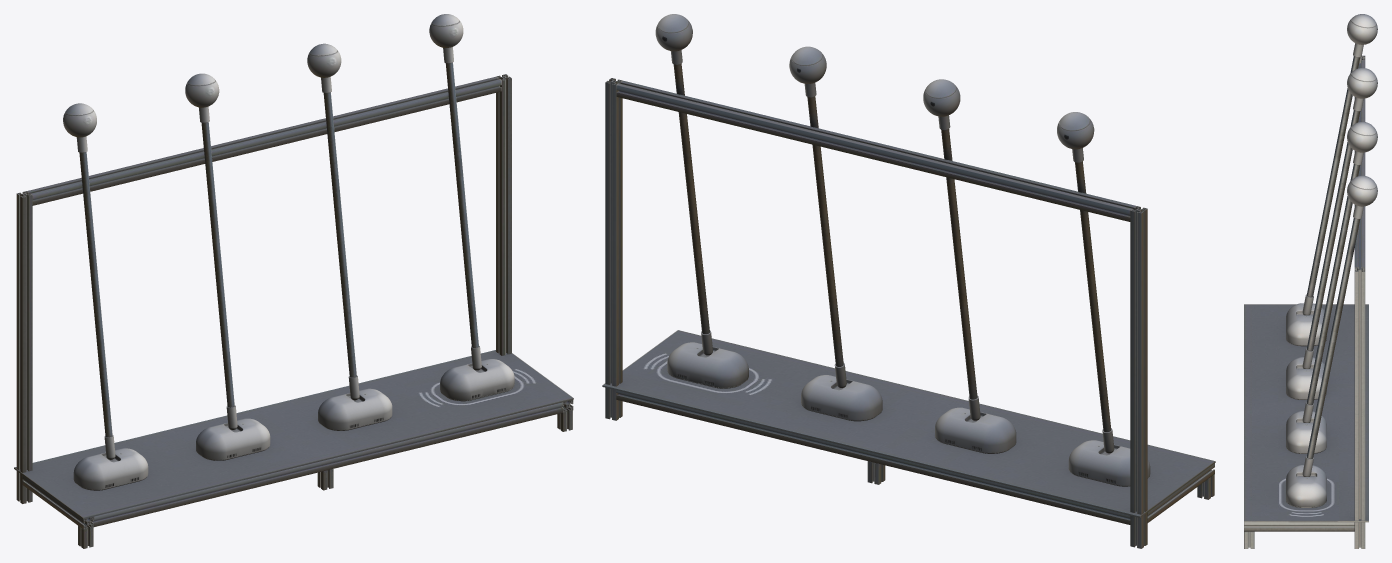
3 renders of one model, left to right at view 1: azimuth 30°, elevation 25°; view 2: azimuth 150°, elevation 25°; view 3: azimuth 270°, elevation 25°, orthographic. The views are drawn at different scales.
Parts seen in each view (by area): view 1: Plane.001; view 2: Plane.001; view 3: Plane.001.
Boxes of the visible parts, x1,y1,x2,y2 form: Plane.001: [14, 14, 573, 548]; Plane.001: [602, 14, 1215, 548]; Plane.001: [1244, 14, 1377, 548].
Size of the model in its own units: 5.92 by 4.39 by 1.55.
Materials: 1 (1 with a texture image).
